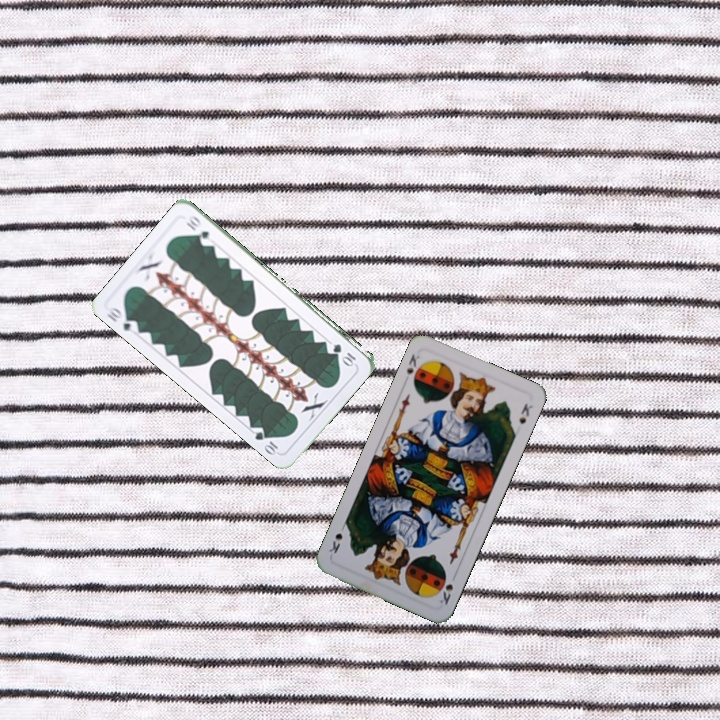G10: (102, 303, 141, 336), (329, 340, 358, 367)
SK: (435, 569, 459, 608), (402, 350, 422, 378)
